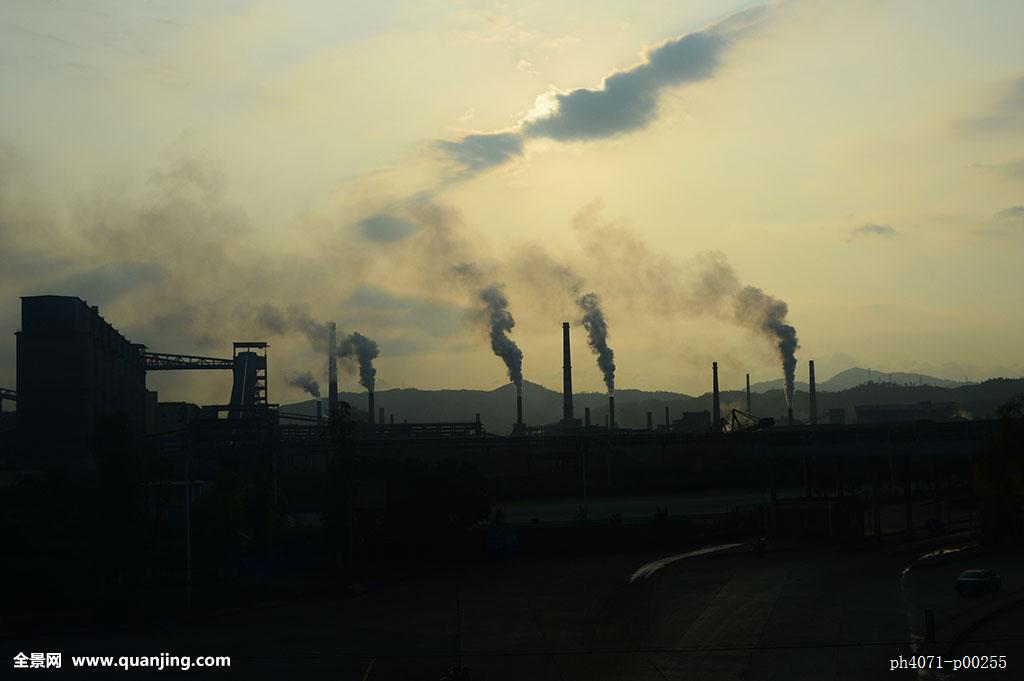dust: (736, 298, 807, 406), (468, 290, 533, 392), (326, 312, 392, 400), (569, 296, 630, 390), (282, 362, 328, 412)
